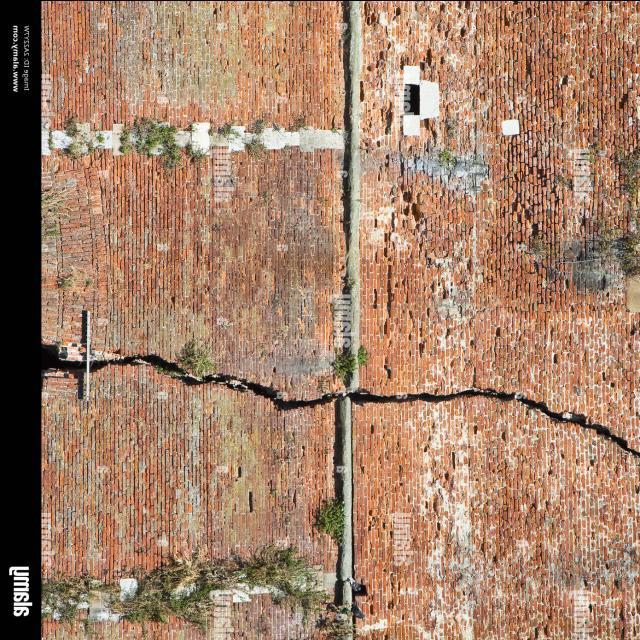Crack: (44, 343, 639, 460)
